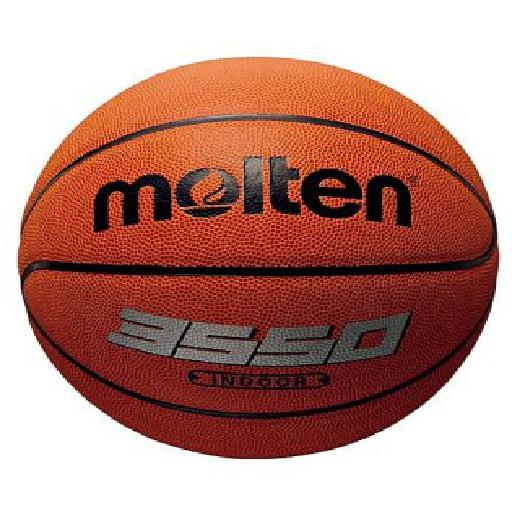ball: (19, 57, 499, 458)
